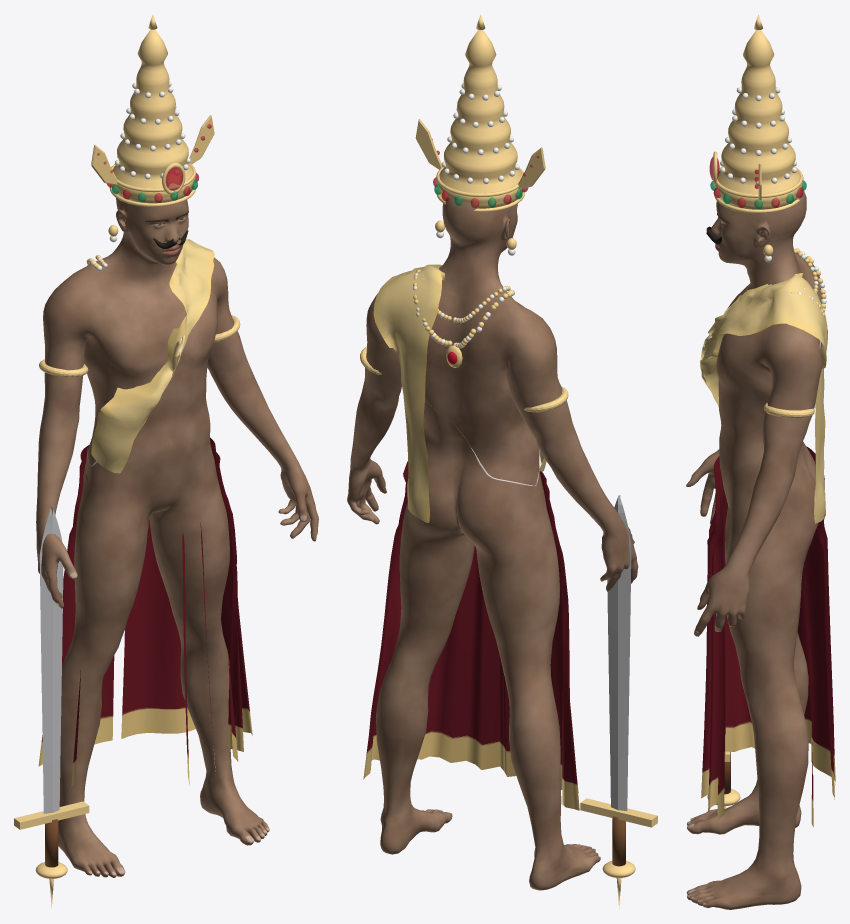
Rendered from puru.glb.
3 views of the same model, side by side, from view 1: azimuth 30°, elevation 25°; view 2: azimuth 150°, elevation 25°; view 3: azimuth 270°, elevation 25° (orthographic). The views are drawn at different scales.
Visible parts, largest first — view 1: A_puru; view 2: A_puru; view 3: A_puru.
Boxes of the visible parts, x1=… form: A_puru: x1=14, y1=14, x2=318, y2=908; A_puru: x1=347, y1=14, x2=657, y2=909; A_puru: x1=686, y1=14, x2=835, y2=909.
Size of the model in its own units: 0.805 by 2.24 by 0.3439.
22 materials, 9 textured.
